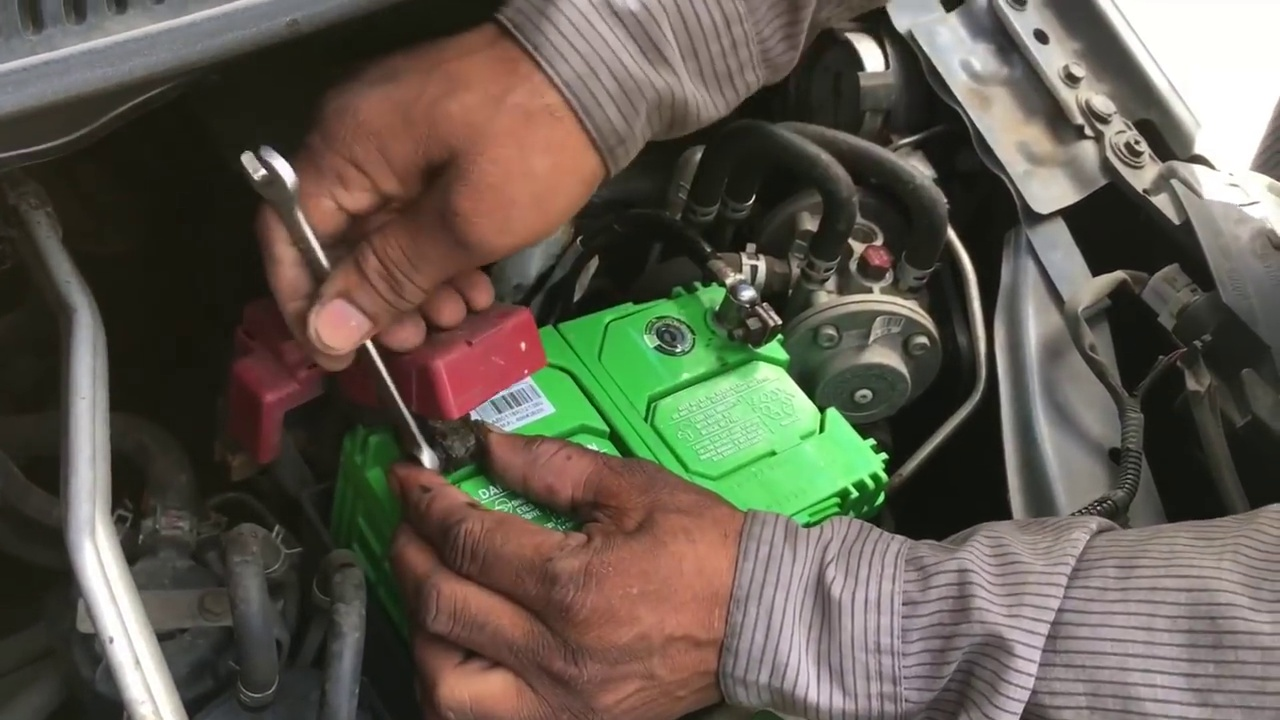battery: (370, 244, 910, 610)
neg_connected: (666, 241, 778, 359)
pos_touched: (325, 218, 575, 568)
